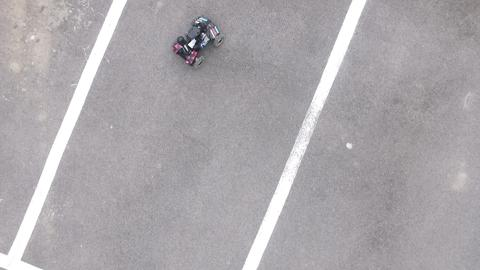chariot: (168, 12, 227, 72)
